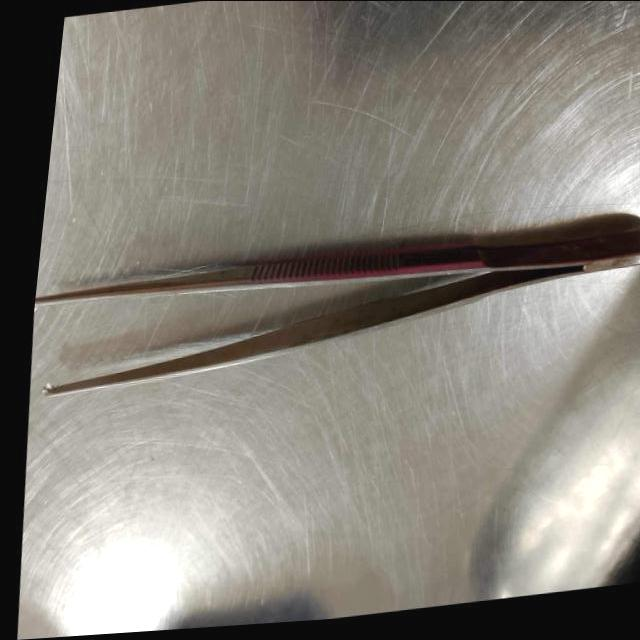General: (19, 2, 639, 638)
Sharps: (40, 252, 639, 399), (34, 211, 639, 309)
